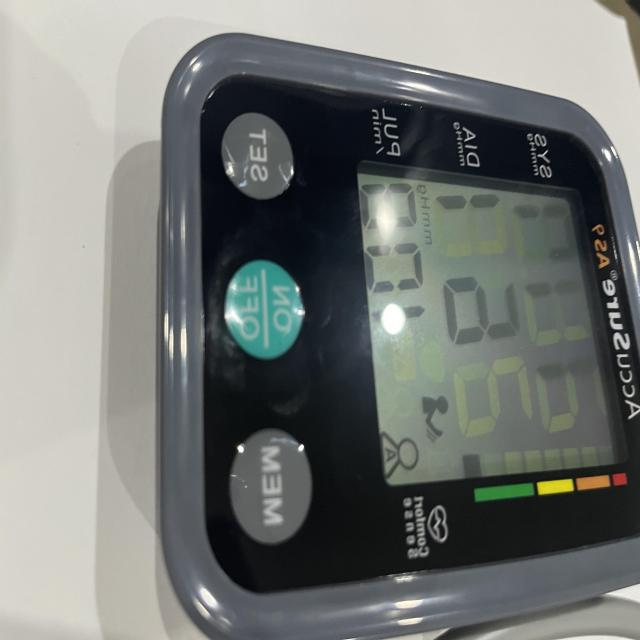bp: (152, 32, 640, 640)
